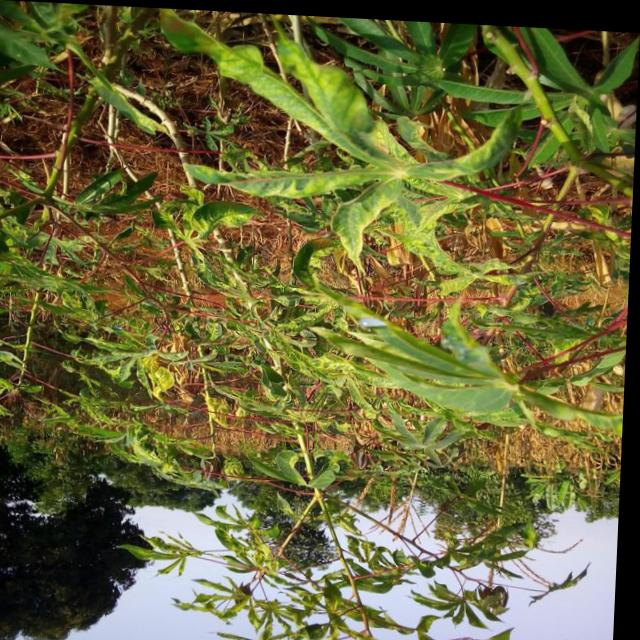Mosaico: (227, 59, 512, 228), (311, 291, 618, 431), (86, 301, 195, 388)
